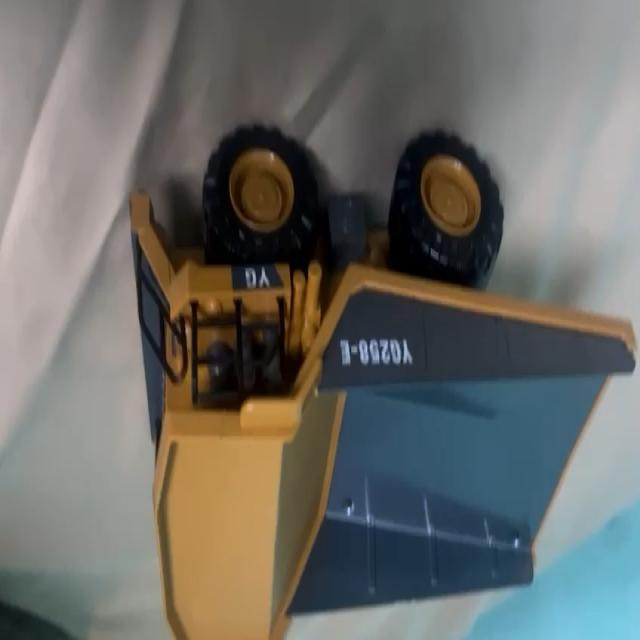dump_truck: (107, 126, 638, 618)
